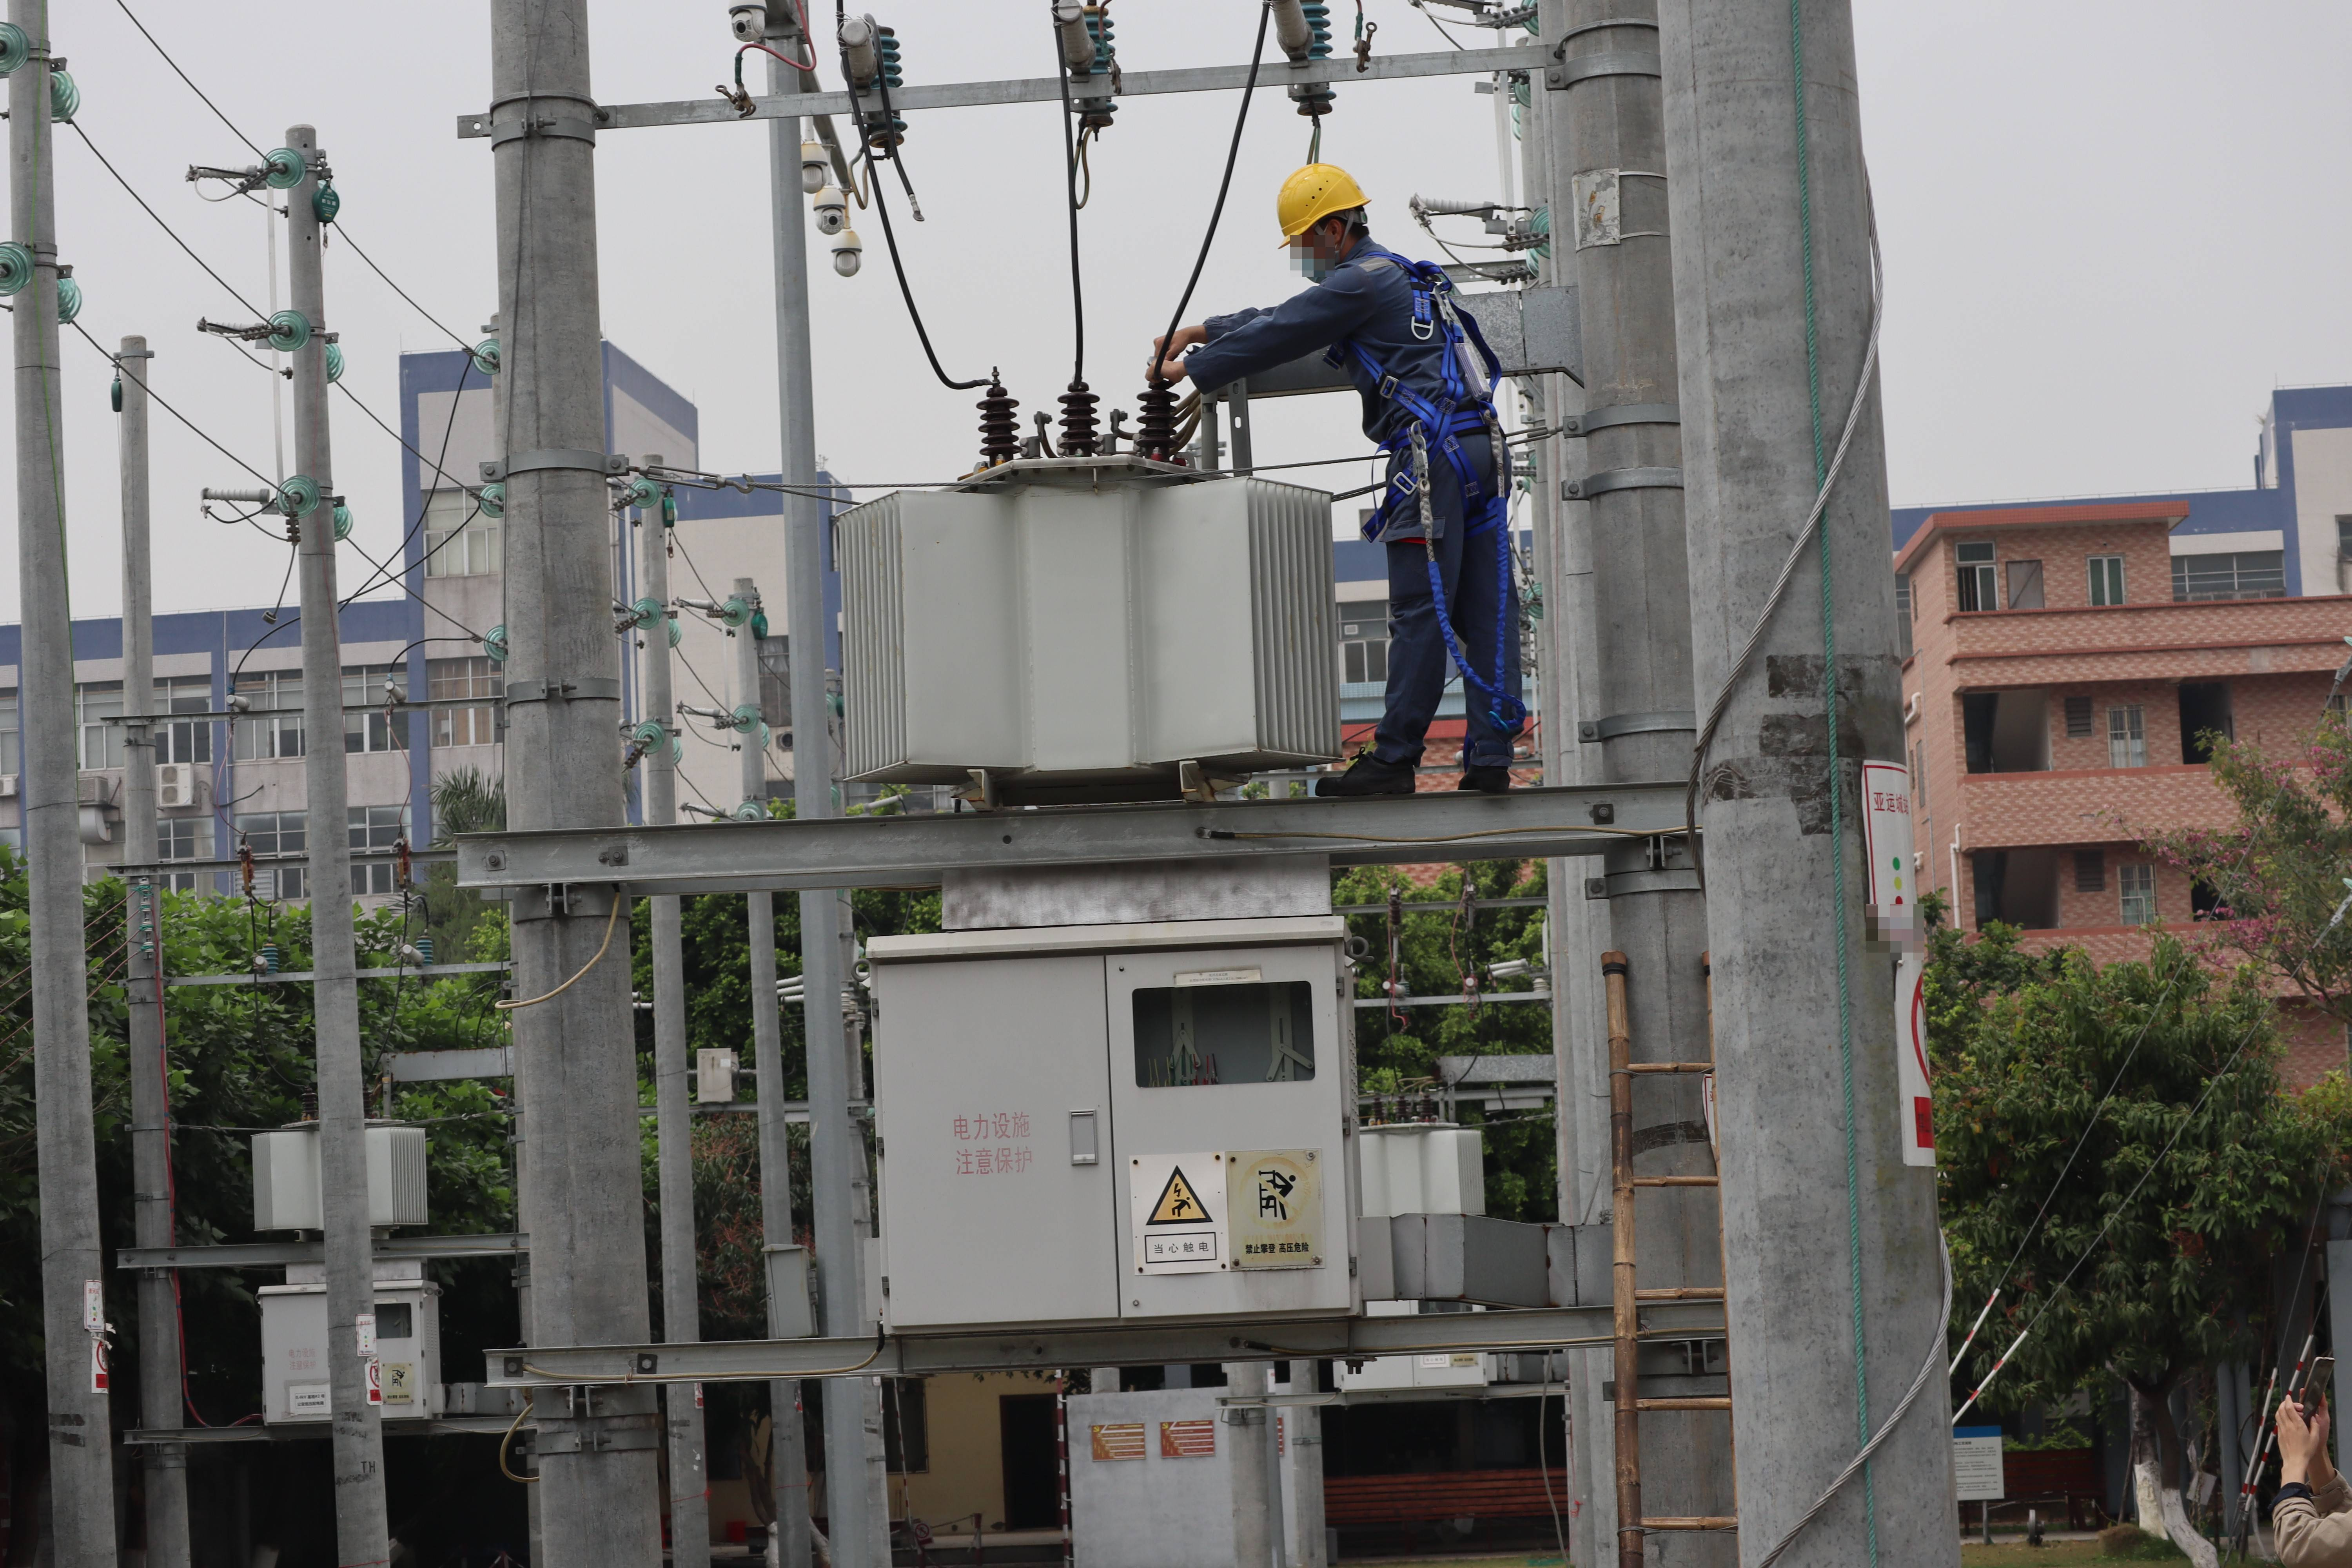downsuit: (1369, 434, 1526, 754)
upsuit: (1194, 240, 1496, 418)
